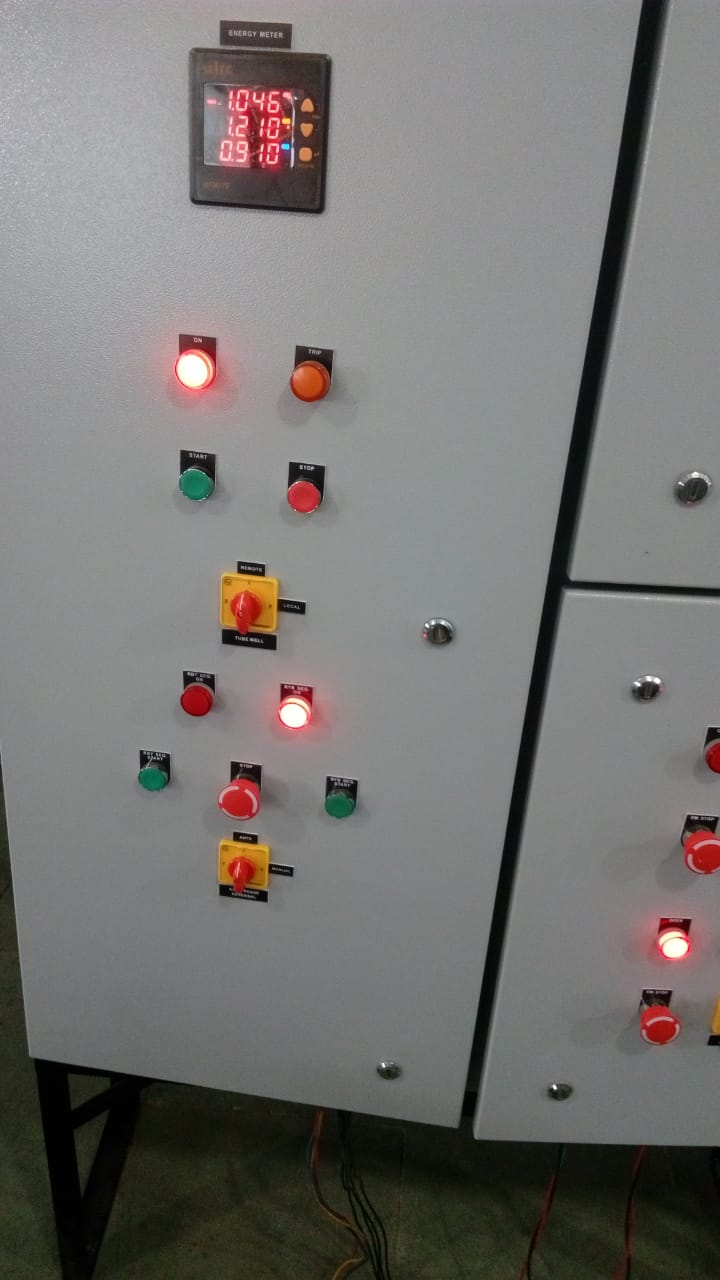Green_Led_Off: (308, 762, 390, 845), (118, 735, 199, 814), (163, 443, 238, 516)
Orange_Led_Off: (278, 341, 347, 417)
Red_Led_Off: (170, 662, 232, 738), (281, 457, 335, 524)
Red_Led_On: (158, 325, 232, 399), (271, 674, 335, 742), (645, 912, 704, 980)
